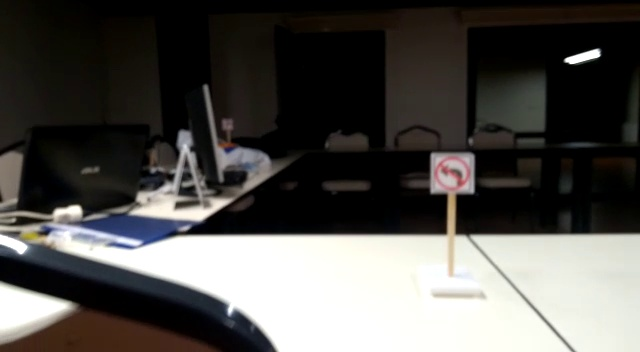sola_donulmez: (425, 147, 480, 195)
